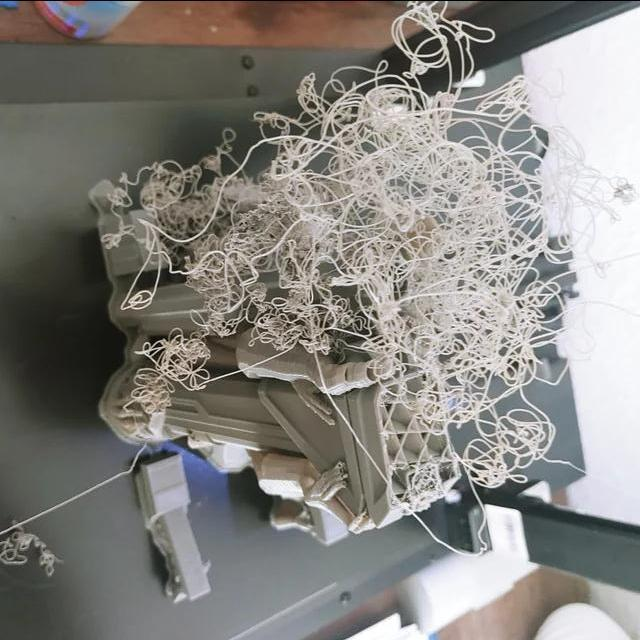Spaghetti: (390, 64, 556, 372), (290, 80, 392, 226), (160, 162, 302, 230), (302, 226, 392, 320), (458, 398, 548, 480), (256, 248, 322, 356), (188, 218, 254, 308), (398, 0, 480, 71), (134, 325, 198, 415), (0, 514, 61, 570)
